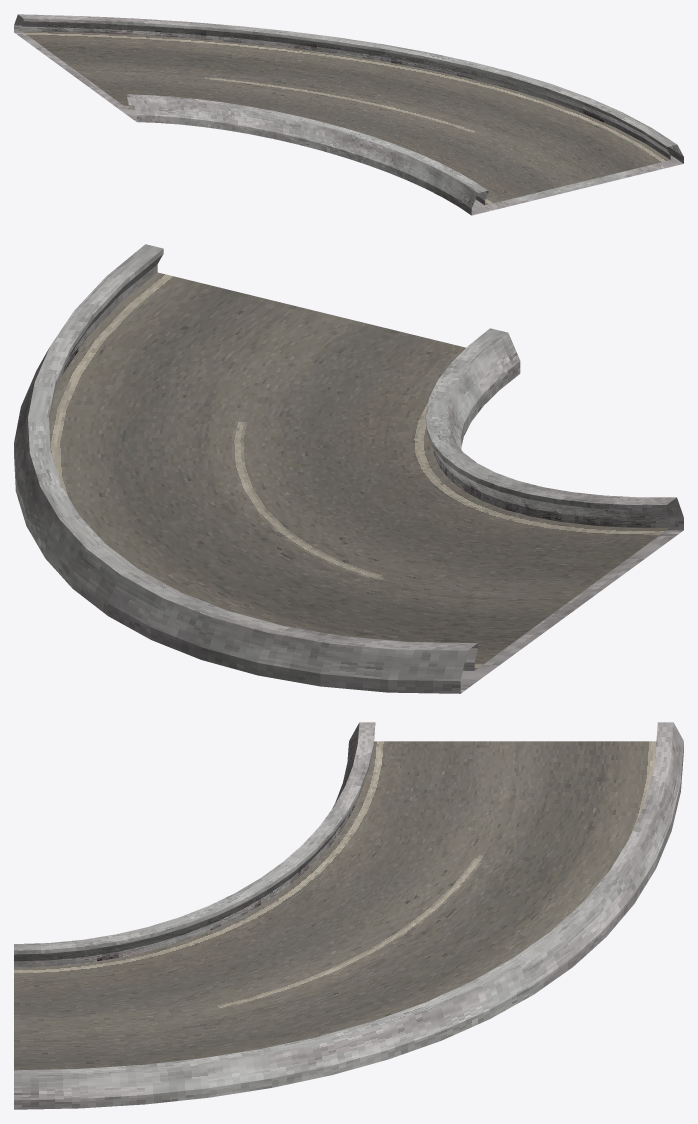
File: road-Turn-Flat-BiSlopeUp-Up1-Left-Size2.glb
3 renders of one model, top to bottom at view 1: azimuth 30°, elevation 25°; view 2: azimuth 150°, elevation 25°; view 3: azimuth 270°, elevation 25°, orthographic. The views are drawn at different scales.
Parts seen in each view (by area): view 1: road-Turn-Flat-BiSlopeUp-Up1-Left-Size2; view 2: road-Turn-Flat-BiSlopeUp-Up1-Left-Size2; view 3: road-Turn-Flat-BiSlopeUp-Up1-Left-Size2.
Boxes of the visible parts, <box> form: road-Turn-Flat-BiSlopeUp-Up1-Left-Size2: <box>14,14,683,215</box>; road-Turn-Flat-BiSlopeUp-Up1-Left-Size2: <box>14,244,683,693</box>; road-Turn-Flat-BiSlopeUp-Up1-Left-Size2: <box>14,722,683,1109</box>.
Size of the model in its own units: 2 by 0.3444 by 2.
2 materials, 2 textured.
